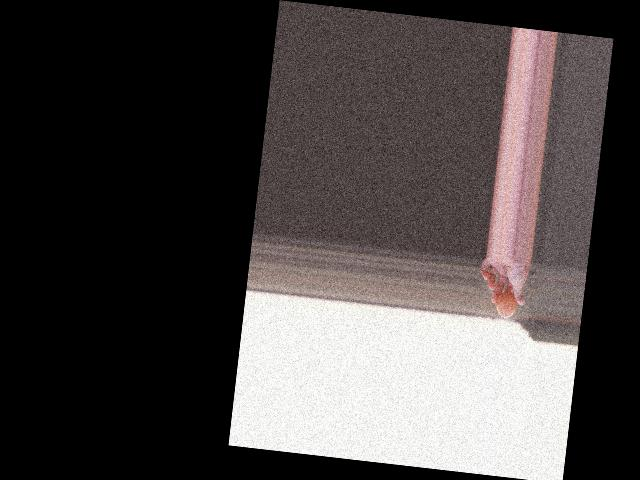egg: (494, 291, 517, 318)
